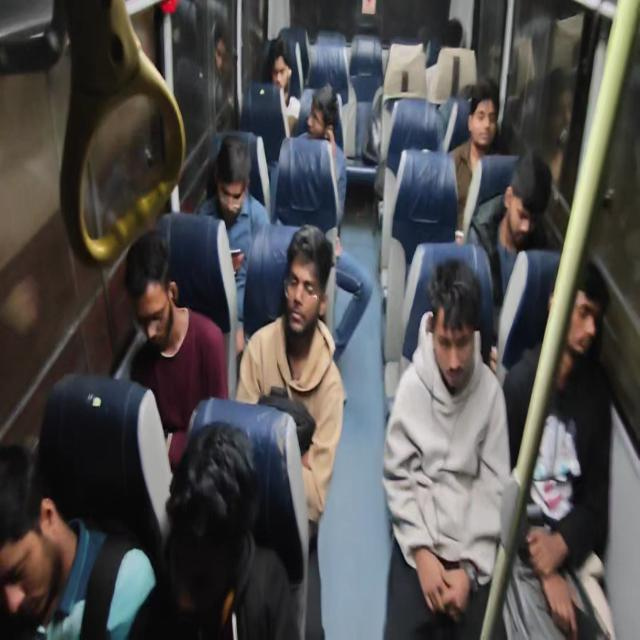person: (382, 257, 511, 638), (235, 223, 346, 637), (499, 259, 613, 638), (127, 419, 300, 639), (0, 442, 157, 639), (276, 83, 373, 361), (123, 230, 229, 470), (196, 133, 271, 349), (467, 149, 552, 303), (448, 79, 502, 239), (297, 82, 347, 230), (537, 67, 576, 201), (261, 36, 301, 136), (211, 18, 236, 130)
